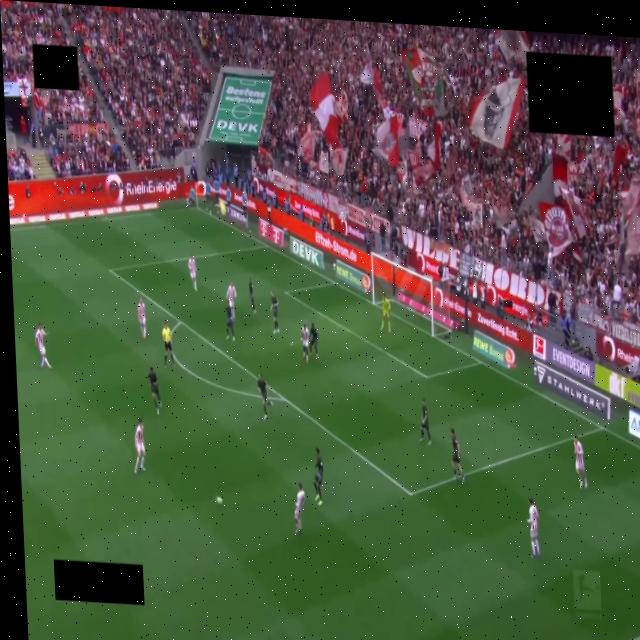ball: (217, 497, 222, 505)
player: (35, 323, 51, 369), (574, 435, 587, 489), (451, 428, 464, 482), (528, 498, 539, 558), (147, 368, 161, 414), (257, 374, 271, 420), (294, 482, 305, 534), (135, 418, 145, 473), (420, 399, 431, 445), (314, 449, 323, 505), (226, 282, 238, 320), (137, 298, 146, 340), (271, 291, 279, 334), (381, 295, 390, 332), (226, 304, 235, 340), (301, 324, 309, 363), (310, 323, 318, 359), (188, 255, 196, 290), (249, 278, 255, 314)
referee: (162, 324, 175, 368)
